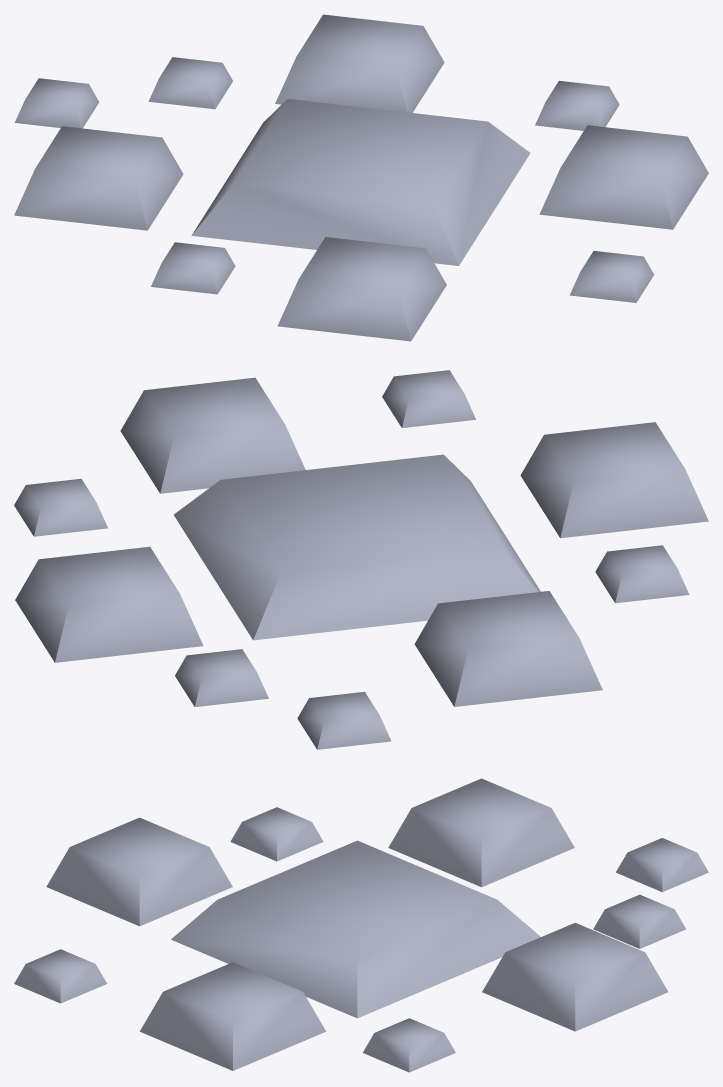
The model's file is stones.glb.
The picture shows the model from 3 angles, top to bottom: view 1: azimuth 30°, elevation 25°; view 2: azimuth 150°, elevation 25°; view 3: azimuth 270°, elevation 25°; orthographic projection. The views are drawn at different scales.
Visible parts, largest first — view 1: stones; view 2: stones; view 3: stones.
Boxes of the visible parts, <box> form: stones: <box>14,14,708,341</box>; stones: <box>14,370,708,749</box>; stones: <box>14,778,708,1072</box>.
Bounding box in the file's own units: 0.7102 × 0.05 × 0.7897.
